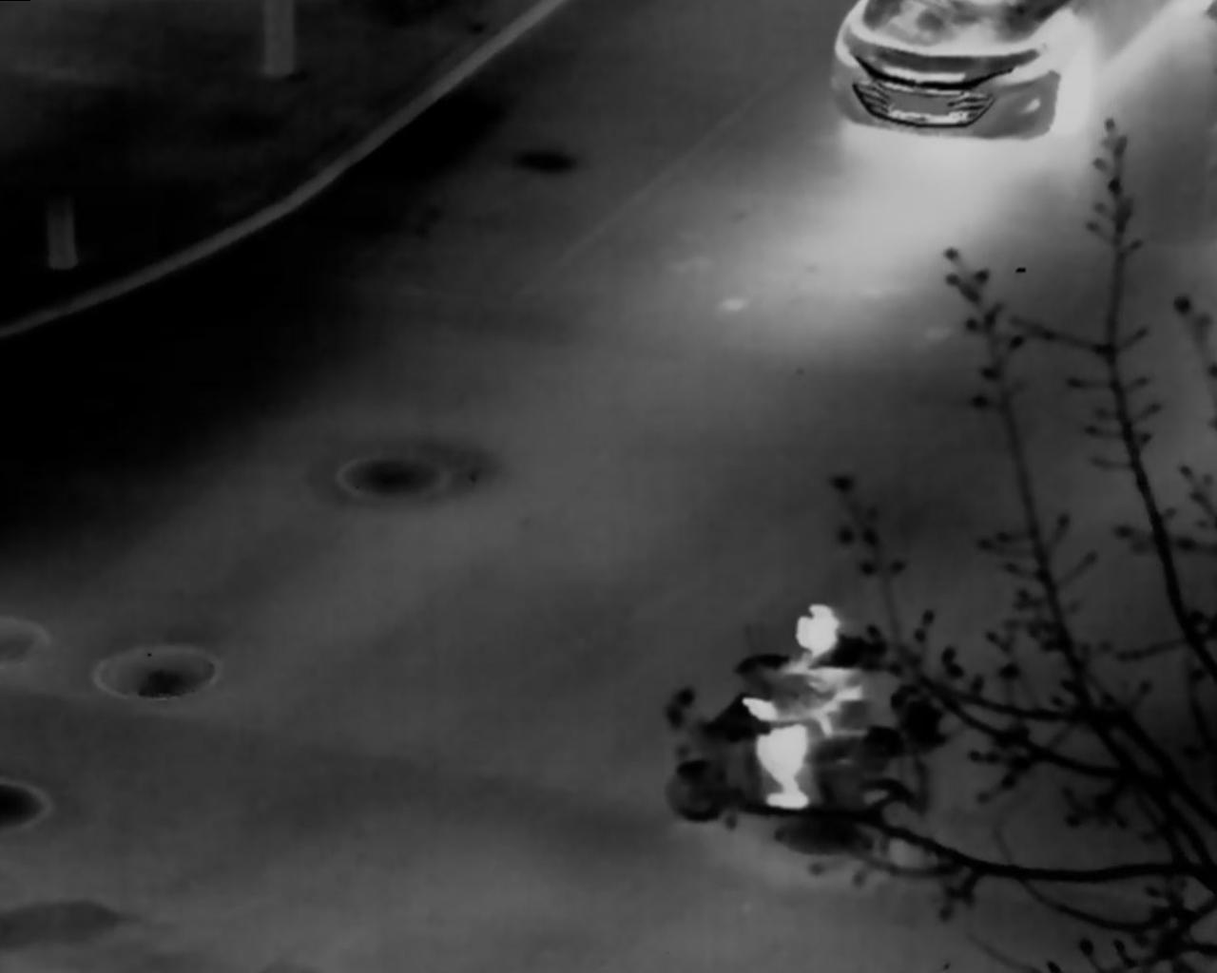person: (743, 602, 869, 808)
